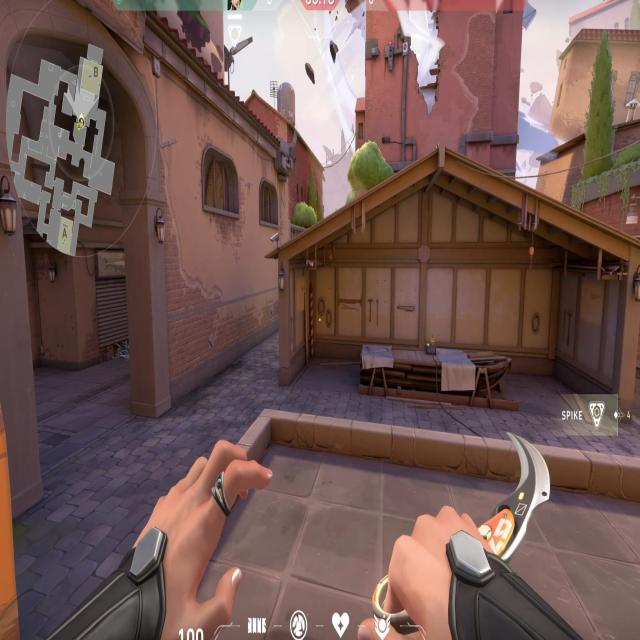B_Garage_Left: (274, 238, 371, 383)
B_Garage_Right: (498, 270, 581, 397)
Throwables: (198, 136, 244, 226), (256, 174, 283, 234)
